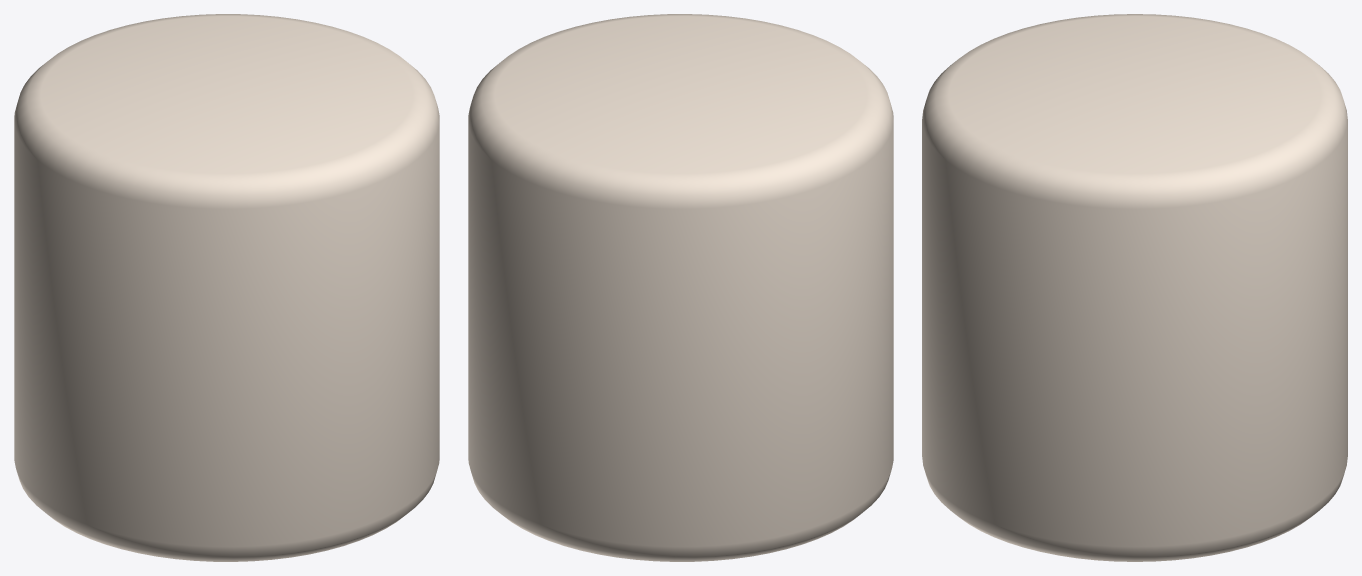
File: 384efaeb-8b66-438e-940a-23e49b77da5c.glb
3 views of the same model, side by side, from view 1: azimuth 30°, elevation 25°; view 2: azimuth 150°, elevation 25°; view 3: azimuth 270°, elevation 25° (orthographic).
Visible parts, largest first — view 1: Cup; view 2: Cup; view 3: Cup.
Part boxes in pixels (left/top/right/bottom): Cup: left=14, top=14, right=439, bottom=561; Cup: left=468, top=14, right=893, bottom=561; Cup: left=922, top=14, right=1347, bottom=561.
Bounding box in the file's own units: 0.08 × 0.08 × 0.08.
